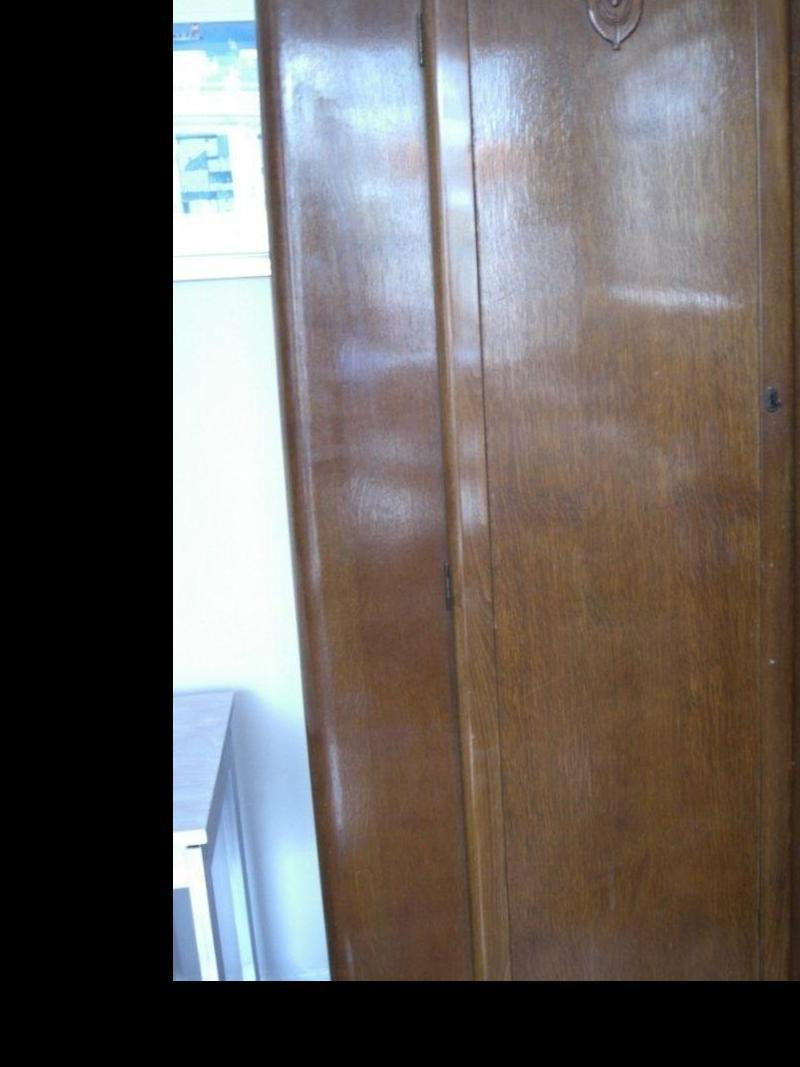Armario: (301, 0, 800, 963)
